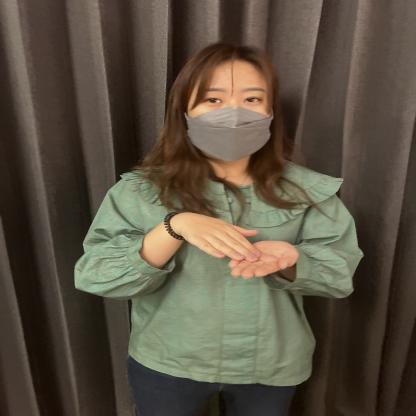Love: (72, 187, 307, 295)
